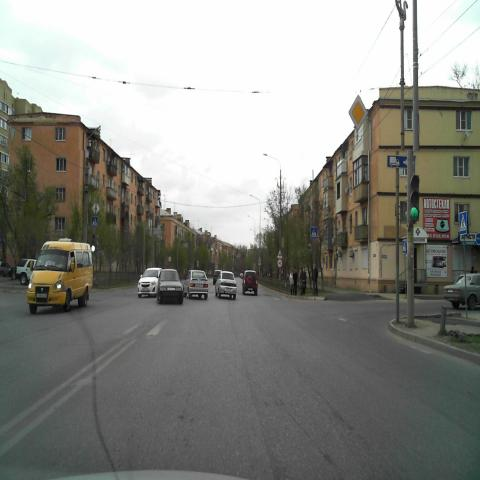6_15_2: (386, 154, 407, 168)
